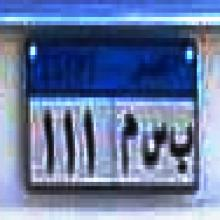1: (42, 108, 58, 176), (62, 107, 77, 177), (83, 109, 97, 176)
baa: (170, 120, 193, 179)
meem: (120, 108, 139, 179)
seen: (141, 115, 167, 174)
